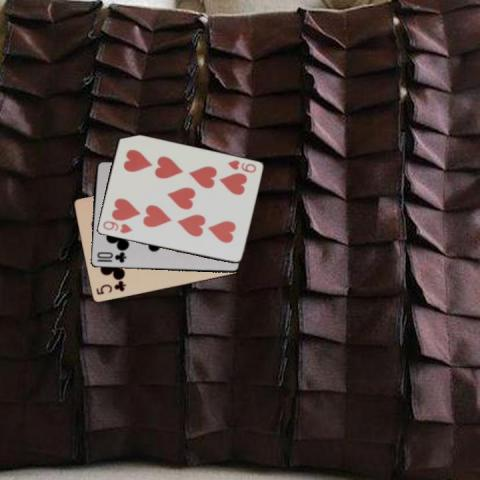10c: (94, 249, 127, 264)
5c: (93, 279, 127, 296)
9h: (100, 218, 134, 235), (225, 157, 257, 174)
